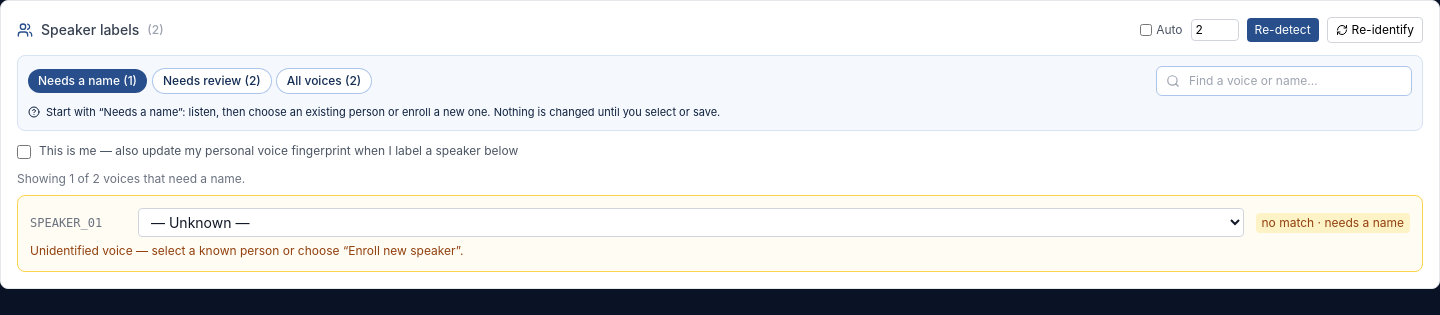
Test: SpeakerTagger self-introduction suggestions › prefills the enroll input from a self-intro suggestion and does not auto-submit
Expected: the text "SPEAKER_01" is shown, top-left (30, 216), bottom-right (102, 230)
# Open the inline enroll form for the unidentified speaker.
Select "+ Enroll new speaker…" in the dropdown named "Speaker for SPEAKER_01" at (691,222), box top-left (138, 208), bottom-right (1244, 237)
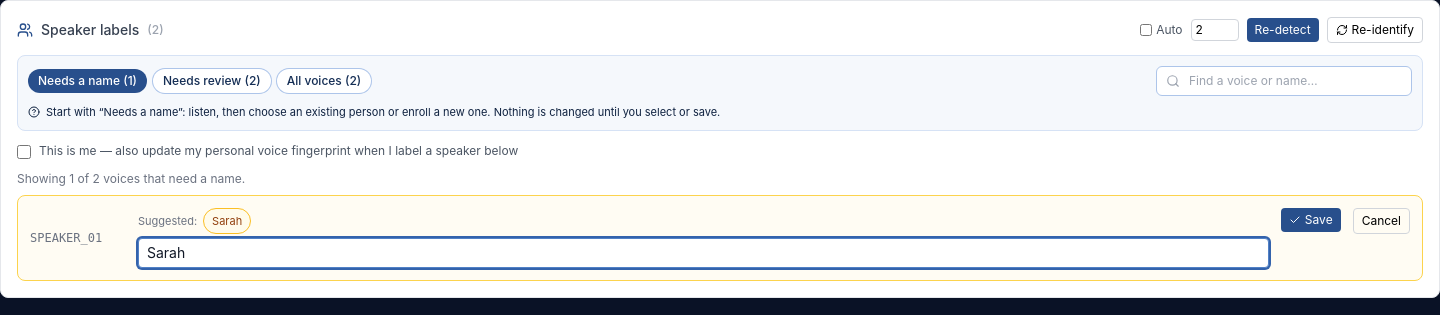
Expected: the field with placeholder "e.g. Aaron Stransky" holds "Sarah", top-left (138, 238), bottom-right (1269, 268)
